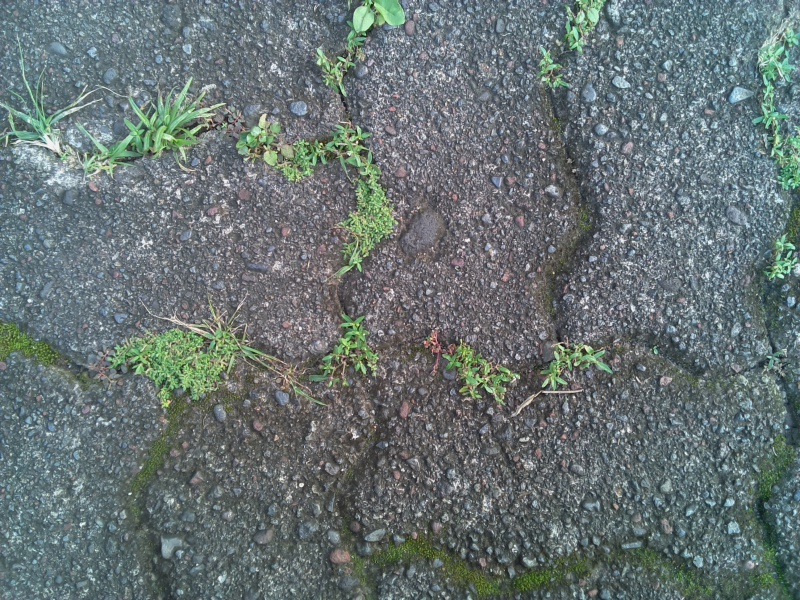Weed: (1, 62, 87, 170), (108, 326, 219, 400), (119, 84, 216, 163), (184, 298, 275, 382), (333, 176, 407, 265), (442, 339, 519, 408), (317, 309, 385, 384), (745, 100, 800, 190), (535, 338, 609, 392), (318, 122, 384, 174), (346, 3, 409, 54), (236, 111, 291, 166), (751, 34, 800, 91), (562, 1, 610, 55), (307, 46, 357, 92), (762, 229, 800, 286), (534, 47, 574, 94), (761, 342, 790, 380)
